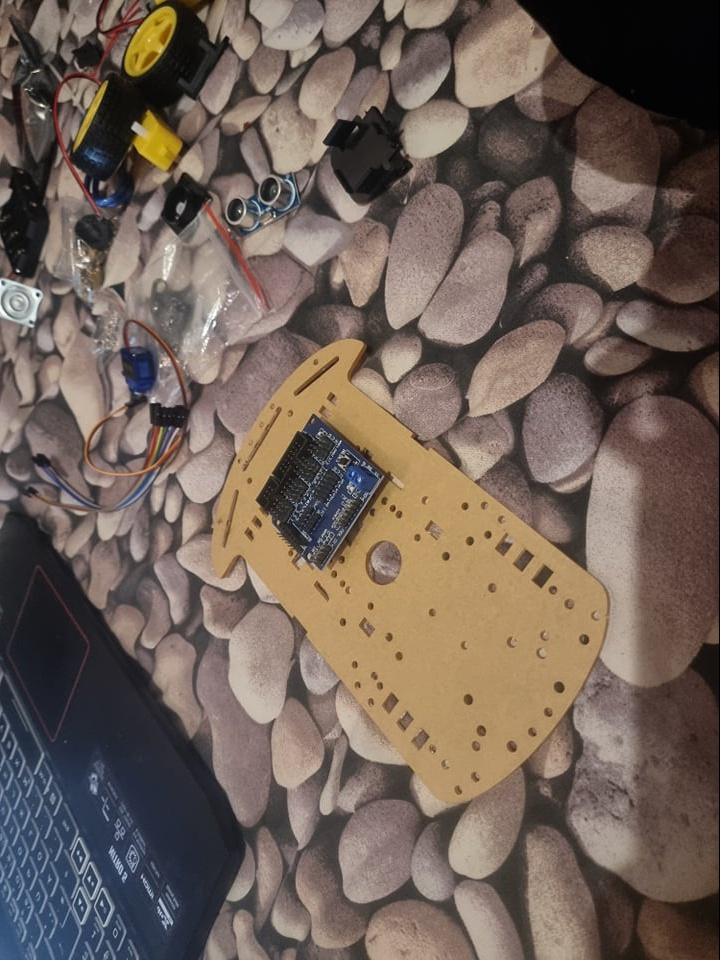5V EXPANSION: (254, 410, 385, 571)
BATTERY BOX: (1, 164, 54, 277)
SENSOR: (226, 173, 299, 235)
